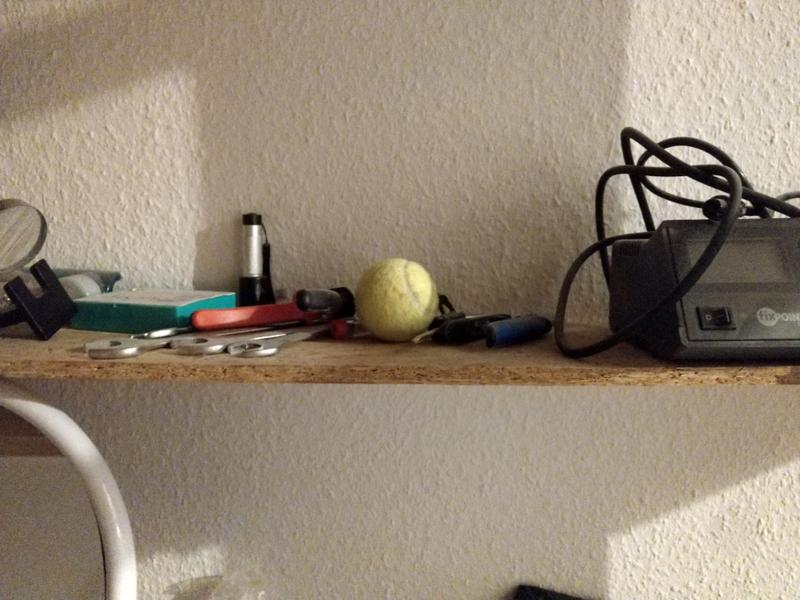Tennisball: (351, 254, 435, 346)
